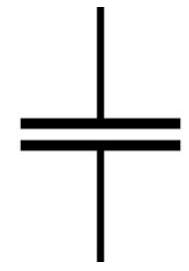Capacitor: (9, 97, 184, 167)
